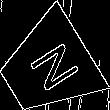N_SW: (17, 37, 78, 98)
